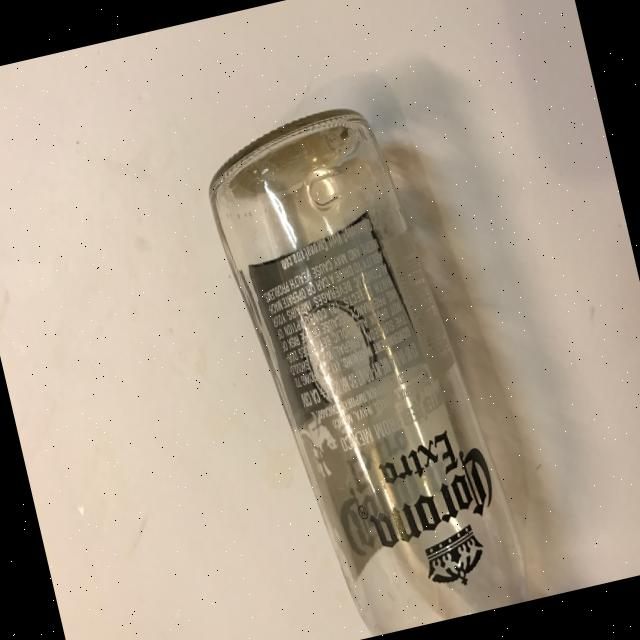glass: (194, 87, 535, 640)
